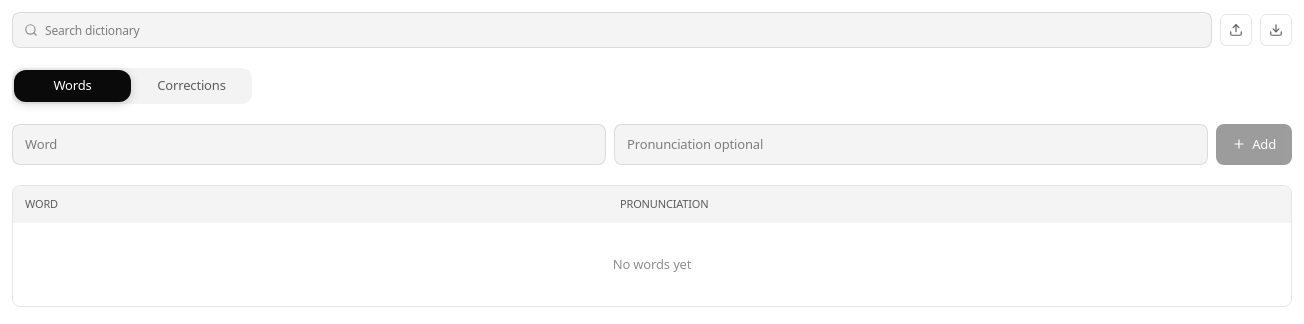
Scenario: DictionaryPane › shows words and corrections as separate compact sections
Expected: the button "Words" is shown, 14,70 -> 131,102
Expected: the field with placeholder "Pronunciation optional" is shown, 614,124 -> 1208,165
Click the button "Corrections" at (192,86), box 133,70 -> 250,102
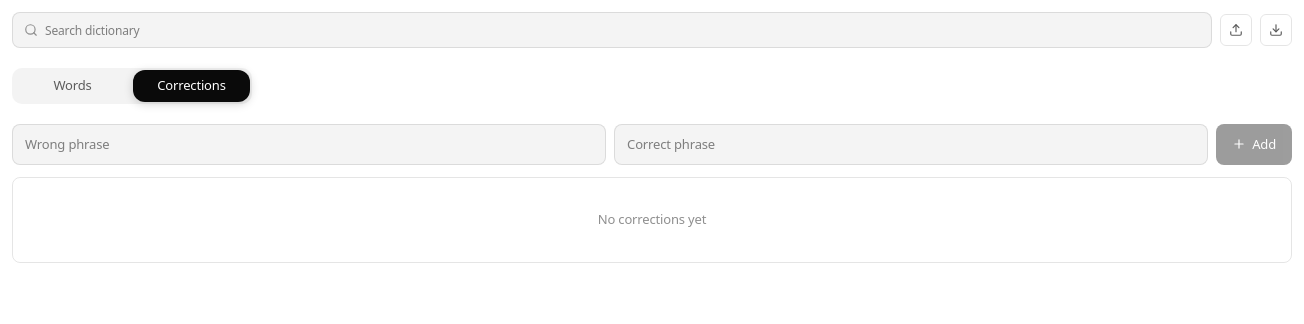
Expected: the field with placeholder "Wrong phrase" is shown, 12,124 -> 606,165
Expected: the field with placeholder "Correct phrase" is shown, 614,124 -> 1208,165
Expected: the text "No corrections yet" is shown, 598,210 -> 706,228
